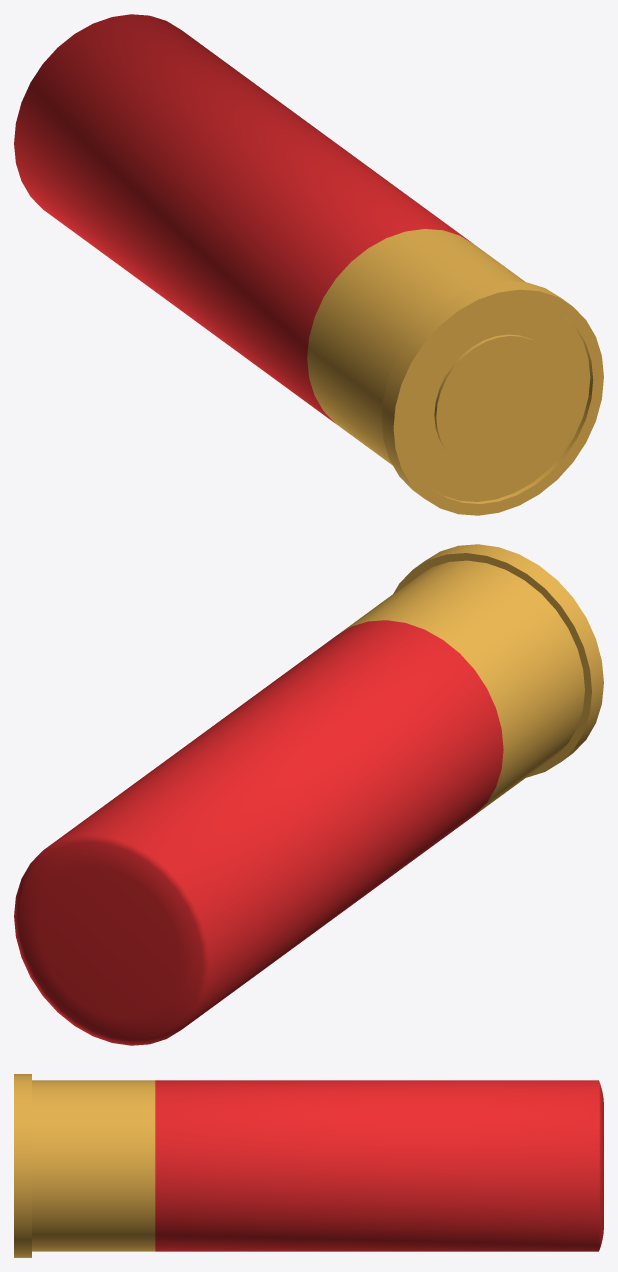
The model's file is slug.glb.
3 views of the same model, one above another, from view 1: azimuth 30°, elevation 25°; view 2: azimuth 150°, elevation 25°; view 3: azimuth 270°, elevation 25° (orthographic). The views are drawn at different scales.
Parts seen in each view (by area): view 1: Circle.006; view 2: Circle.006; view 3: Circle.006.
Part boxes in pixels (x1=…): Circle.006: x1=14, y1=14, x2=603, y2=515; Circle.006: x1=14, y1=544, x2=603, y2=1045; Circle.006: x1=14, y1=1074, x2=603, y2=1257.
Size of the model in its own units: 0.087 by 0.087 by 0.279.
